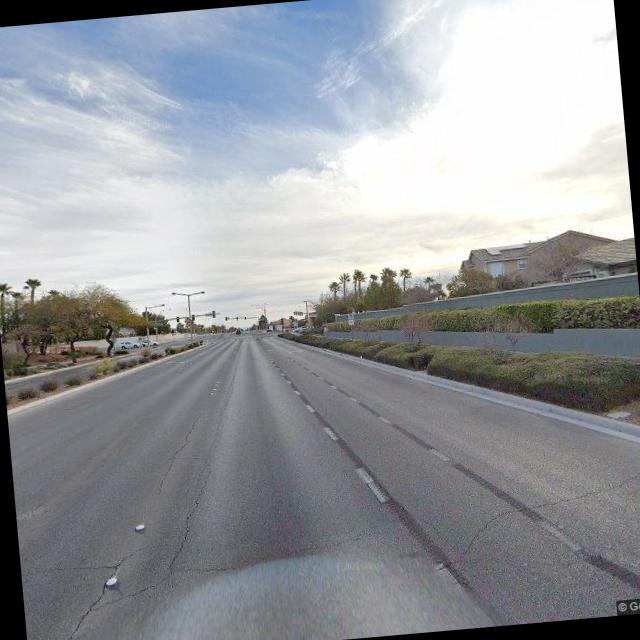crack: (443, 459, 640, 557), (56, 542, 158, 636), (156, 476, 213, 576), (149, 412, 206, 492)
